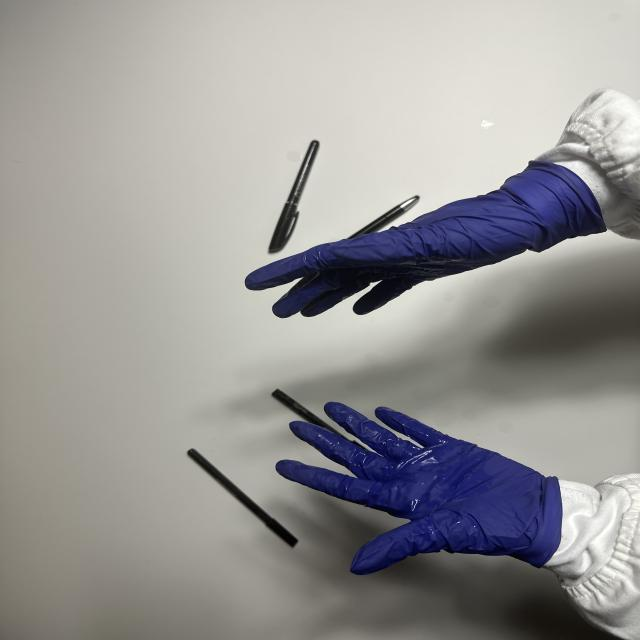gloves_contaminated: (246, 162, 604, 317), (277, 403, 562, 574)
